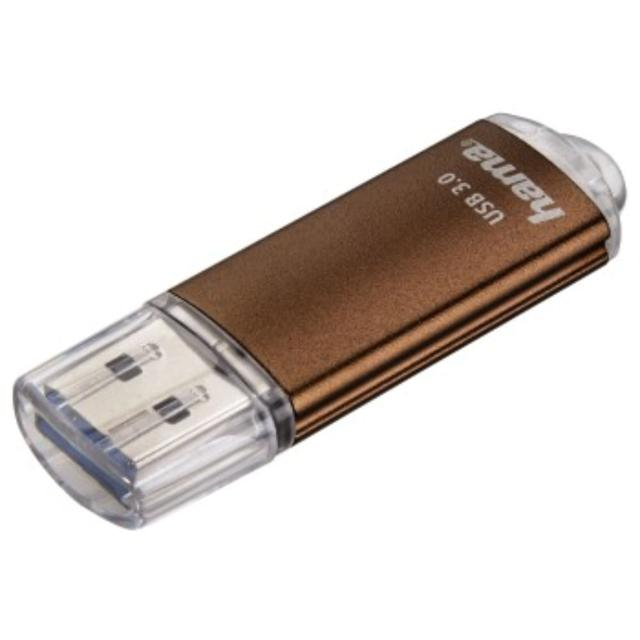USB-Flash-Drive: (12, 113, 626, 532)
